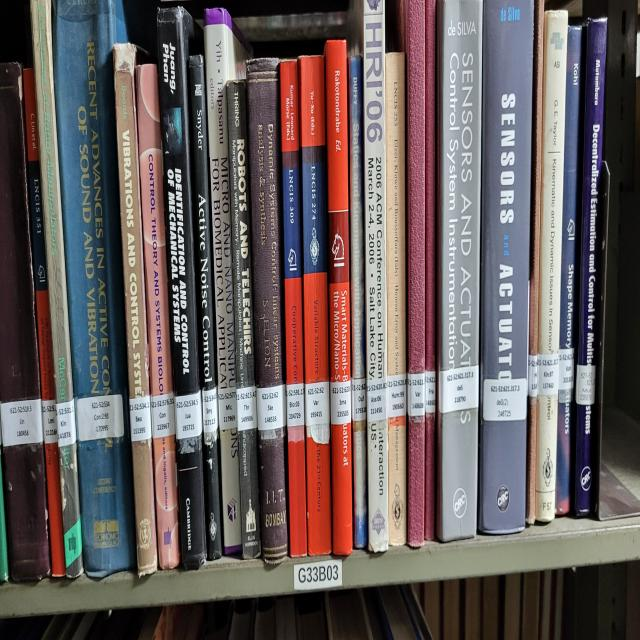Book: (52, 0, 136, 576), (31, 0, 82, 579), (479, 0, 534, 533), (159, 8, 206, 568), (204, 8, 252, 555), (0, 62, 50, 582), (438, 0, 482, 541), (114, 43, 158, 576), (136, 65, 180, 568), (246, 60, 288, 563), (24, 68, 65, 576), (535, 11, 568, 522), (226, 81, 261, 557), (189, 57, 221, 560), (574, 19, 606, 517), (299, 57, 331, 555), (555, 24, 584, 514), (280, 60, 308, 557), (325, 43, 352, 555), (364, 0, 389, 552), (405, 0, 425, 547), (385, 51, 406, 547), (348, 35, 368, 549), (526, 0, 545, 525), (425, 0, 436, 541)
Label: (76, 395, 124, 441), (0, 398, 44, 446), (482, 379, 528, 422), (439, 365, 479, 414), (256, 384, 286, 430), (175, 390, 202, 441), (151, 392, 175, 438), (305, 381, 330, 425), (330, 379, 351, 425), (130, 395, 151, 441), (56, 398, 76, 446), (366, 379, 388, 422), (236, 387, 258, 430), (538, 352, 559, 395), (286, 381, 305, 427), (218, 387, 238, 430), (388, 373, 406, 419), (576, 365, 596, 406), (408, 371, 425, 417), (41, 400, 58, 444), (202, 387, 218, 433), (559, 349, 574, 392), (351, 379, 366, 422), (528, 354, 539, 398), (425, 371, 436, 414)
